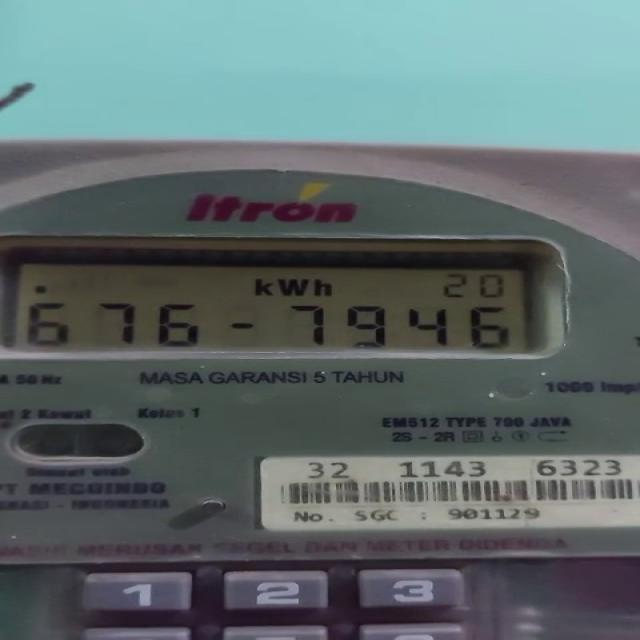LCD: (9, 243, 556, 355)
